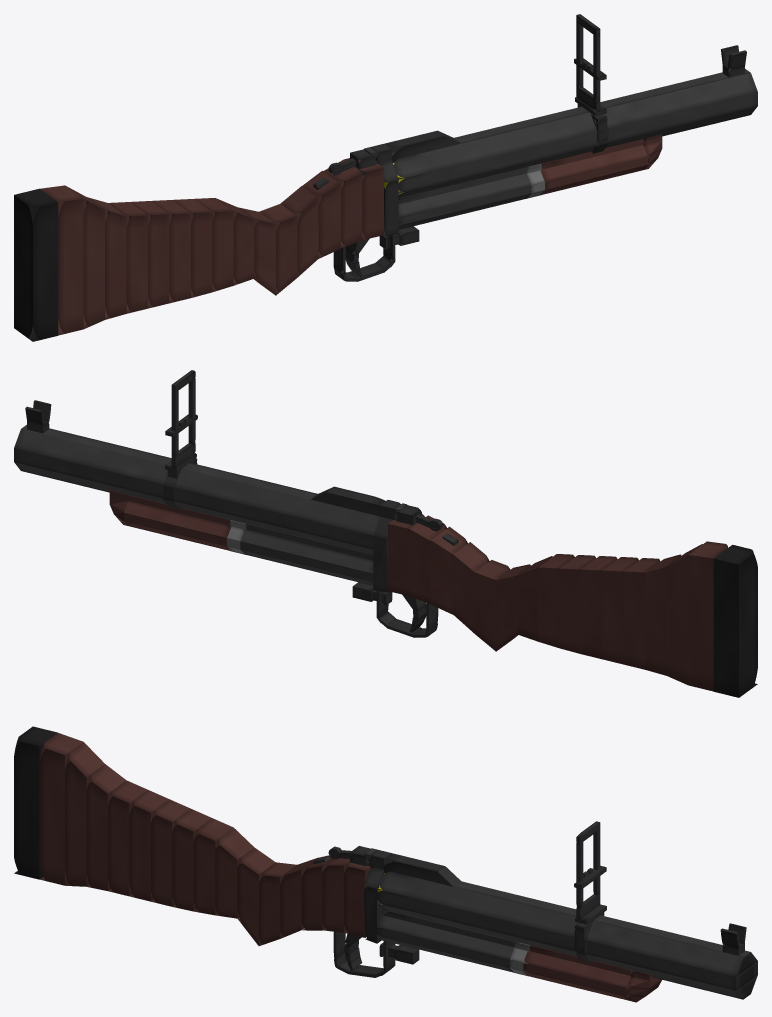
3 renders of one model, top to bottom at view 1: azimuth 30°, elevation 25°; view 2: azimuth 150°, elevation 25°; view 3: azimuth 330°, elevation 25°, orthographic.
Visible parts, largest first — view 1: gunModel1, gunModel19, gunModel0, gunModel18, gunModel28, gunModel17, gunModel31, gunModel16, gunModel15, gunModel14, gunModel13, gunModel12 (+13 smaller); view 2: gunModel1, gunModel19, gunModel0, gunModel18, gunModel29, gunModel17, gunModel30, gunModel16, gunModel15, gunModel14, gunModel13, gunModel2 (+13 smaller); view 3: gunModel1, gunModel0, gunModel18, gunModel19, gunModel28, gunModel17, gunModel16, gunModel31, gunModel15, gunModel14, gunModel13, gunModel12 (+14 smaller).
Part boxes in pixels (x1=…): gunModel1: x1=392, y1=69, x2=757, y2=179; gunModel19: x1=14, y1=188, x2=58, y2=341; gunModel0: x1=398, y1=92, x2=757, y2=193; gunModel18: x1=40, y1=185, x2=83, y2=335; gunModel28: x1=398, y1=173, x2=531, y2=229; gunModel17: x1=66, y1=186, x2=104, y2=328; gunModel31: x1=540, y1=145, x2=647, y2=194; gunModel16: x1=86, y1=197, x2=126, y2=319; gunModel15: x1=108, y1=202, x2=147, y2=313; gunModel14: x1=130, y1=201, x2=169, y2=308; gunModel13: x1=151, y1=200, x2=190, y2=303; gunModel12: x1=173, y1=199, x2=212, y2=297; gunModel1: x1=14, y1=425, x2=379, y2=535; gunModel19: x1=713, y1=544, x2=757, y2=697; gunModel0: x1=14, y1=448, x2=373, y2=549; gunModel18: x1=688, y1=541, x2=727, y2=691; gunModel29: x1=240, y1=529, x2=373, y2=585; gunModel17: x1=667, y1=544, x2=702, y2=684; gunModel30: x1=124, y1=501, x2=230, y2=550; gunModel16: x1=645, y1=554, x2=681, y2=675; gunModel15: x1=624, y1=558, x2=660, y2=669; gunModel14: x1=602, y1=557, x2=638, y2=664; gunModel13: x1=581, y1=556, x2=617, y2=659; gunModel2: x1=14, y1=462, x2=373, y2=554; gunModel1: x1=377, y1=871, x2=757, y2=976; gunModel0: x1=377, y1=890, x2=757, y2=990; gunModel18: x1=39, y1=733, x2=83, y2=885; gunModel19: x1=14, y1=726, x2=57, y2=879; gunModel28: x1=377, y1=915, x2=513, y2=972; gunModel17: x1=65, y1=742, x2=104, y2=886; gunModel16: x1=86, y1=764, x2=126, y2=890; gunModel31: x1=523, y1=951, x2=630, y2=1000; gunModel15: x1=108, y1=780, x2=147, y2=896; gunModel14: x1=129, y1=790, x2=168, y2=901; gunModel13: x1=151, y1=799, x2=190, y2=906; gunModel12: x1=172, y1=809, x2=211, y2=911.
Size of the model in its own units: 27 by 7.1 by 1.6.
